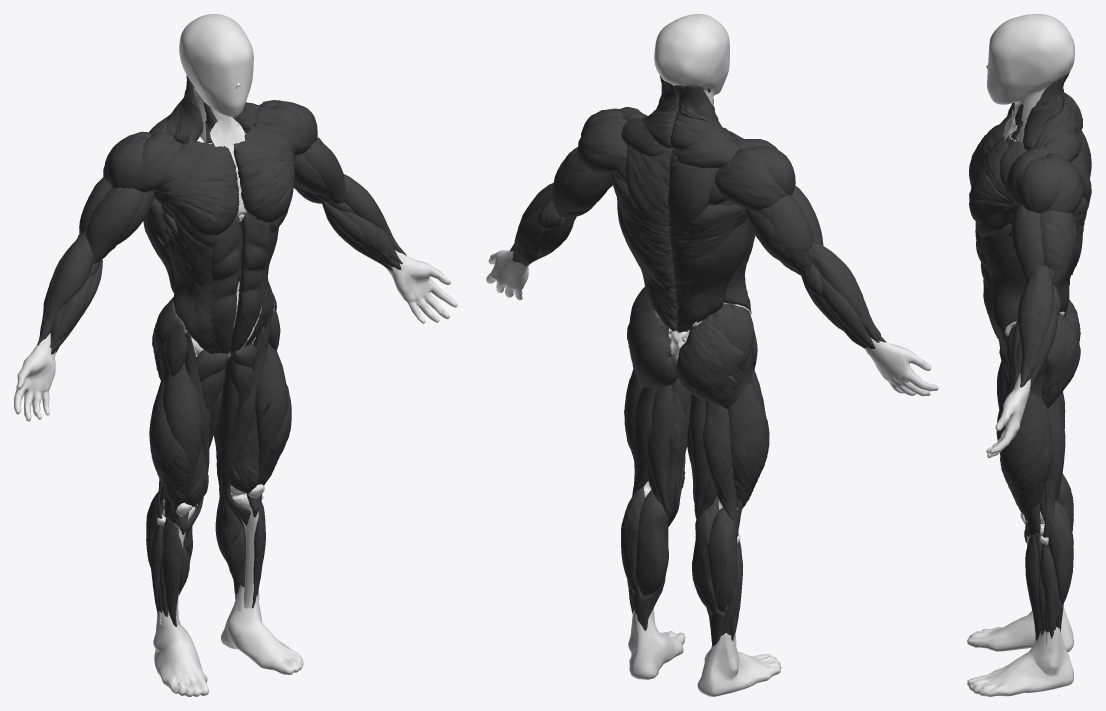
The model's file is corpo-14.glb.
3 views of the same model, side by side, from view 1: azimuth 30°, elevation 25°; view 2: azimuth 150°, elevation 25°; view 3: azimuth 270°, elevation 25° (orthographic).
Visible parts, largest first — view 1: pele, peito_medial, deco, cabeca, quad_reto_femoral, obliquos, adutores, antebraco_flexores, biceps_longa, abdomen_supra, antebraco_braquiorradial, quad_vasto_lateral (+17 smaller); view 2: pele, panturrilha_gastro, gluteo_maximo, dorsal_inferior, isquio_semitendineo, dorsal_superior, ombro_posterior, antebraco_extensores, trapezio_inferior, cabeca, quad_vasto_lateral, isquio_biceps_femoral (+11 smaller); view 3: pele, cabeca, quad_vasto_lateral, deco, obliquos, peito_medial, gluteo_maximo, trapezio_superior, panturrilha_gastro, triceps_lateral, ombro_lateral, antebraco_braquiorradial (+21 smaller).
Boxes of the visible parts, x1,y1,x2,y2 form: pele: [14, 250, 457, 696]; peito_medial: [153, 137, 295, 235]; deco: [150, 85, 272, 626]; cabeca: [179, 14, 253, 142]; quad_reto_femoral: [163, 325, 287, 534]; obliquos: [167, 220, 278, 353]; adutores: [186, 340, 257, 539]; antebraco_flexores: [49, 202, 402, 354]; biceps_longa: [87, 139, 345, 263]; abdomen_supra: [211, 212, 271, 296]; antebraco_braquiorradial: [37, 174, 406, 345]; quad_vasto_lateral: [149, 379, 291, 526]; pele: [486, 250, 938, 696]; panturrilha_gastro: [621, 486, 736, 612]; gluteo_maximo: [627, 307, 743, 409]; dorsal_inferior: [621, 229, 747, 332]; isquio_semitendineo: [647, 385, 716, 520]; dorsal_superior: [611, 173, 753, 260]; ombro_posterior: [577, 116, 787, 211]; antebraco_extensores: [512, 190, 879, 348]; trapezio_inferior: [625, 146, 719, 230]; cabeca: [654, 14, 729, 104]; quad_vasto_lateral: [624, 369, 769, 509]; isquio_biceps_femoral: [632, 387, 738, 536]; pele: [967, 373, 1073, 696]; cabeca: [987, 14, 1074, 142]; quad_vasto_lateral: [1000, 392, 1053, 536]; deco: [1005, 89, 1063, 640]; obliquos: [980, 224, 1025, 349]; peito_medial: [969, 120, 1016, 224]; gluteo_maximo: [1041, 299, 1080, 408]; trapezio_superior: [1022, 71, 1078, 149]; panturrilha_gastro: [1048, 473, 1073, 604]; triceps_lateral: [1040, 210, 1075, 285]; ombro_lateral: [1016, 156, 1060, 213]; antebraco_braquiorradial: [1017, 265, 1050, 387].
Size of the model in its own units: 1.19 by 1.66 by 0.2877.
Materials: 1 (1 with a texture image).
